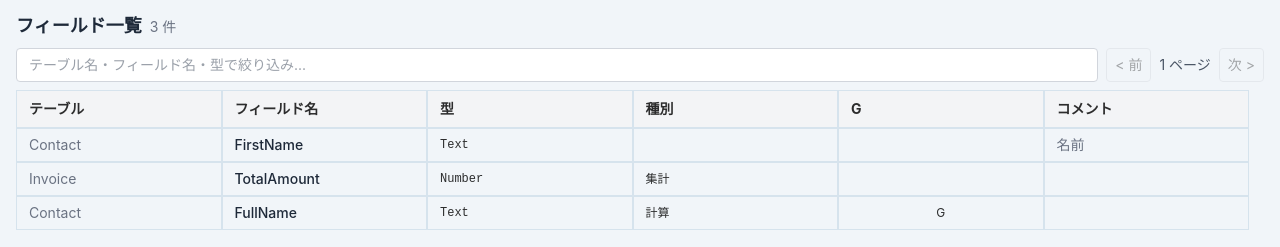
Test case: AllFieldsPanel › filters_by_field_name
Type "total" into the field with placeholder "テーブル名・フィールド名・型で絞り込み...". click: (557, 65)
box: [16,48,1098,82]
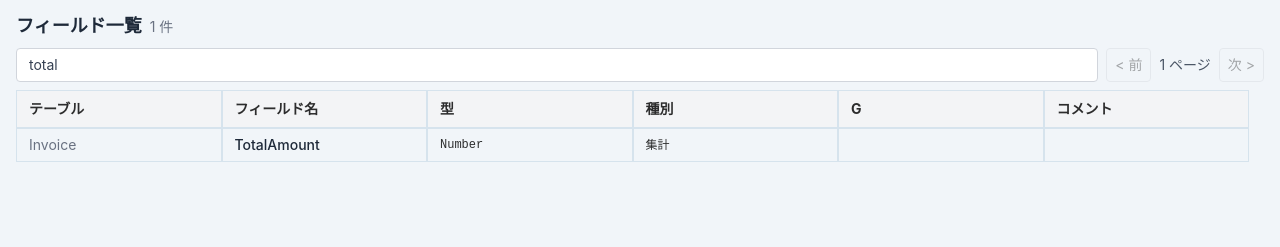
Expected: the text "TotalAmount" is shown, [222,128,427,162]
Expected: the text "FirstName" is gone
